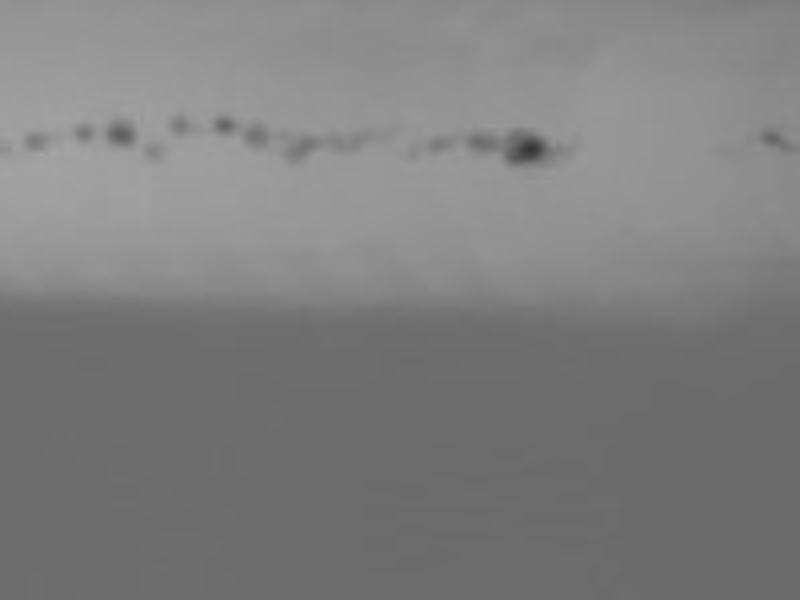defect: (504, 127, 554, 171), (283, 134, 322, 168), (326, 128, 375, 155), (107, 118, 142, 151), (464, 130, 502, 156), (240, 124, 274, 152), (422, 132, 459, 155), (26, 131, 56, 155), (164, 114, 190, 140), (400, 140, 426, 163), (761, 128, 787, 151), (143, 143, 167, 166), (73, 121, 96, 144), (213, 114, 233, 135), (1, 129, 12, 164)
